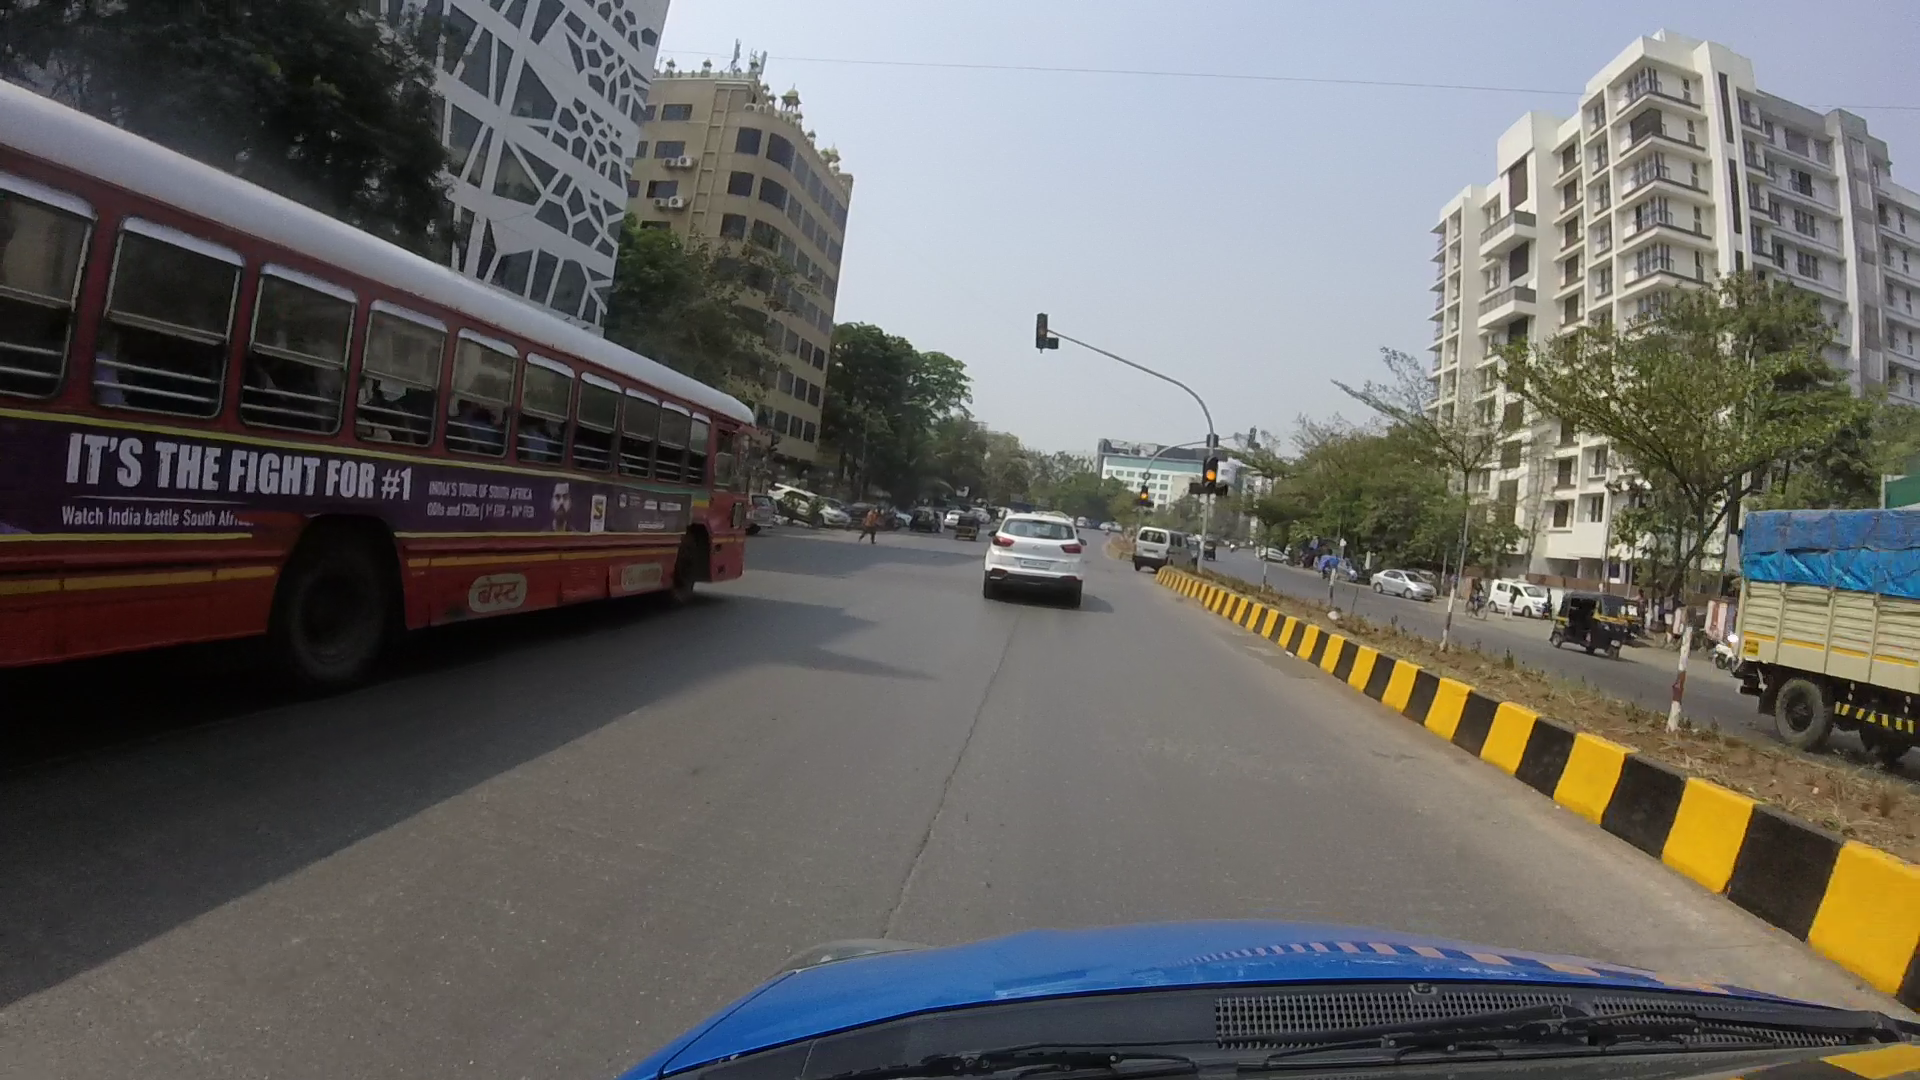bus: (11, 99, 754, 680)
car: (984, 510, 1091, 604)
rickshaw: (1549, 595, 1636, 663)
truck: (1737, 504, 1920, 753)
